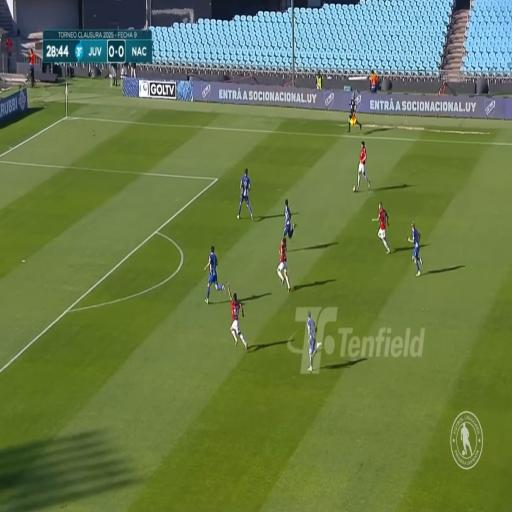Ball: (350, 179, 356, 196)
Player: (304, 305, 320, 380), (230, 286, 245, 350), (204, 243, 221, 298), (373, 203, 389, 248), (279, 234, 292, 287), (409, 220, 422, 272), (284, 201, 296, 252), (238, 168, 250, 218), (357, 137, 367, 195)
Referee: (348, 91, 358, 132)
